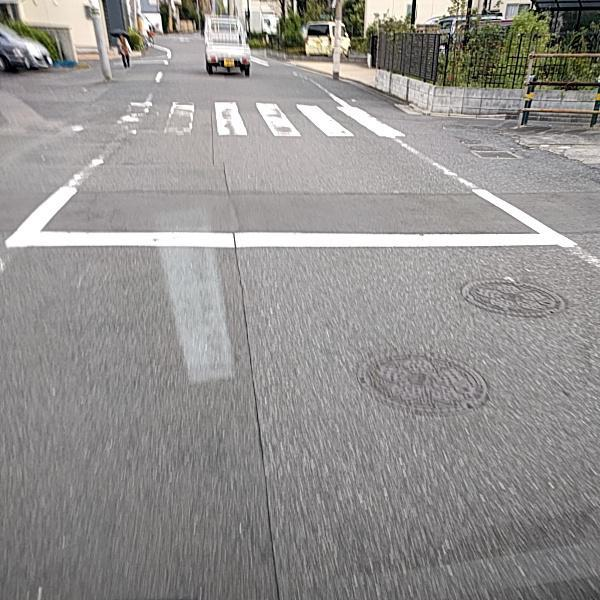D43: (124, 99, 387, 144)
D50: (356, 350, 482, 414), (459, 274, 569, 321)
